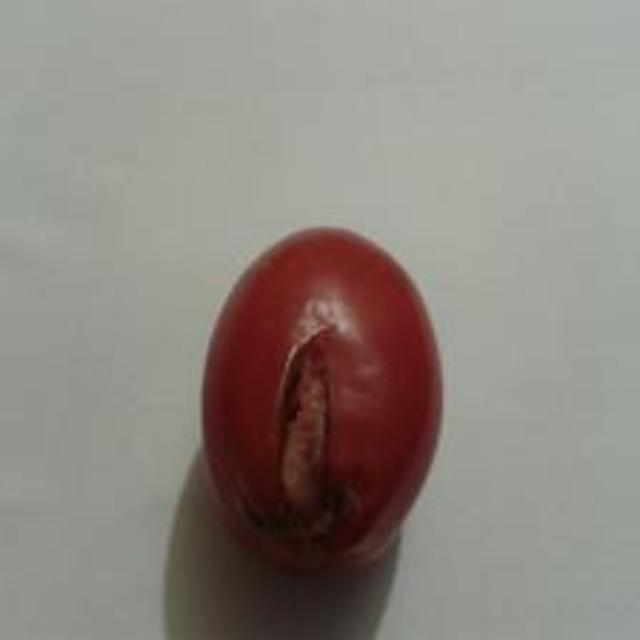defect: (197, 218, 447, 580)
